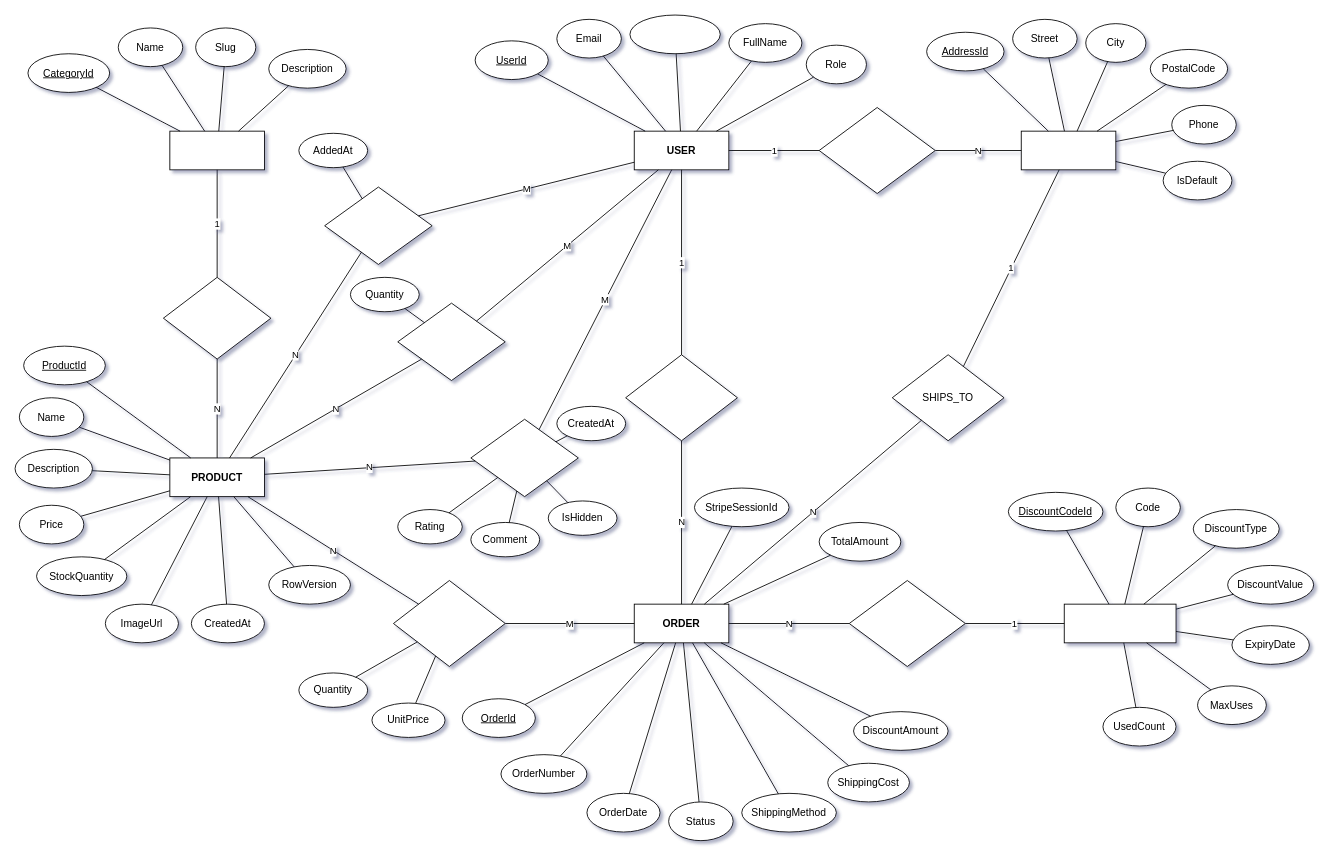
Some shapes in this 1334 by 861 pixel diagram are drawn without their labels. Here are the shapes that lost their labels. From the top down, the centre of each, then its label:
the point at 674,34: PasswordHash
the point at 216,150: CATEGORY
the point at 876,150: HAS_ADDRESS
the point at 1068,150: ADDRESS
the point at 378,225: IN_WISHLIST
the point at 217,317: BELONGS_TO
the point at 451,341: IN_CART
the point at 681,397: PLACES
the point at 524,457: REVIEWS
the point at 449,623: CONTAINS
the point at 906,623: USES_DISCOUNT
the point at 1119,623: DISCOUNT_CODE
